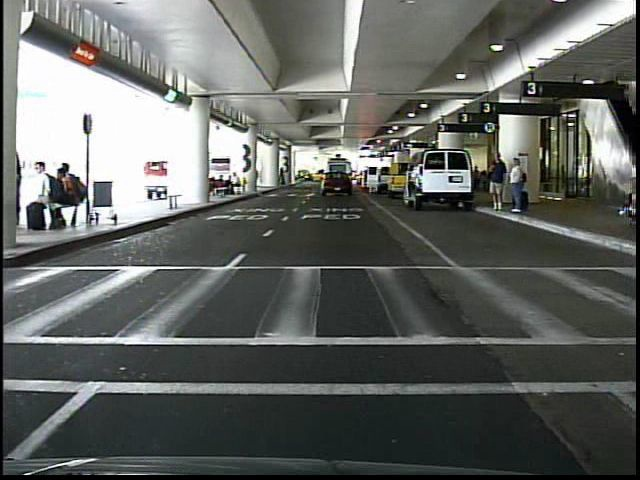person: (507, 155, 529, 220), (486, 149, 507, 217), (325, 170, 336, 194)
